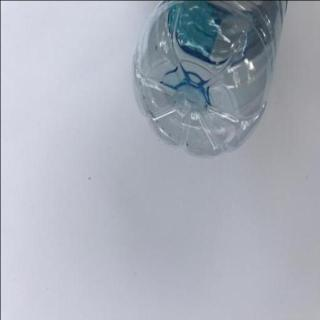Anorganik: (130, 0, 287, 162)
